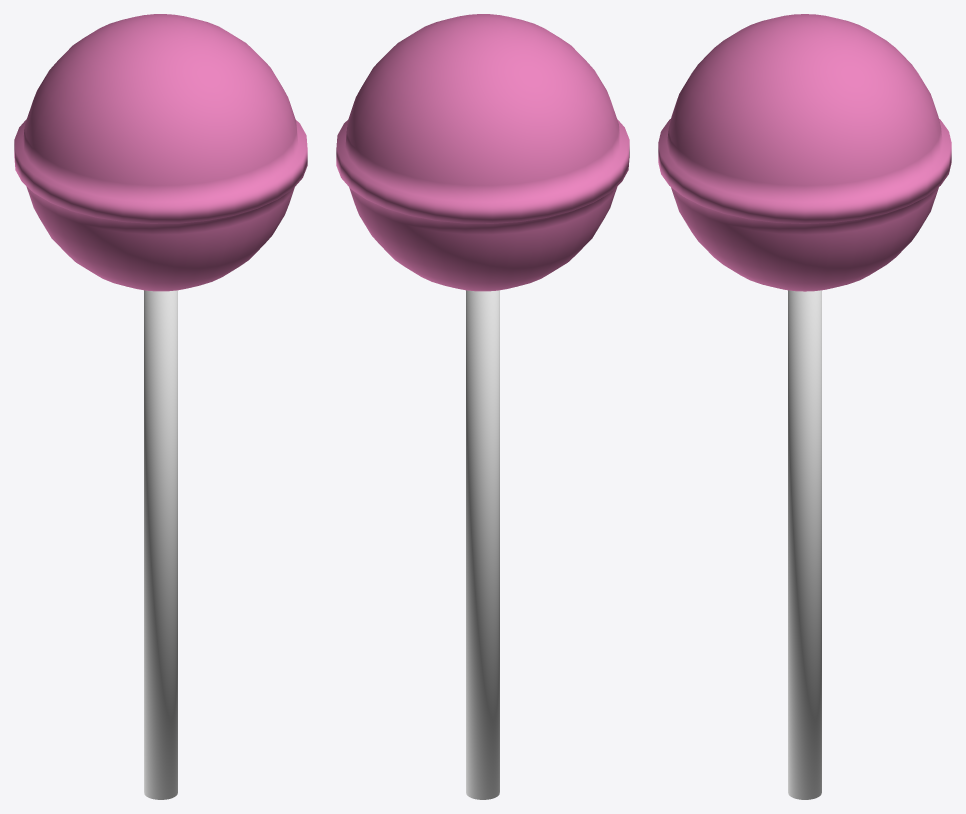
The model's file is Candy3 1.fbx.
3 renders of one model, left to right at view 1: azimuth 30°, elevation 25°; view 2: azimuth 150°, elevation 25°; view 3: azimuth 270°, elevation 25°, orthographic.
Visible parts, largest first — view 1: Cylinder; view 2: Cylinder; view 3: Cylinder.
Boxes of the visible parts, <box> form: Cylinder: <box>14,14,307,799</box>; Cylinder: <box>336,14,629,799</box>; Cylinder: <box>658,14,951,799</box>.
Bounding box in the file's own units: 116 × 333 × 116.
